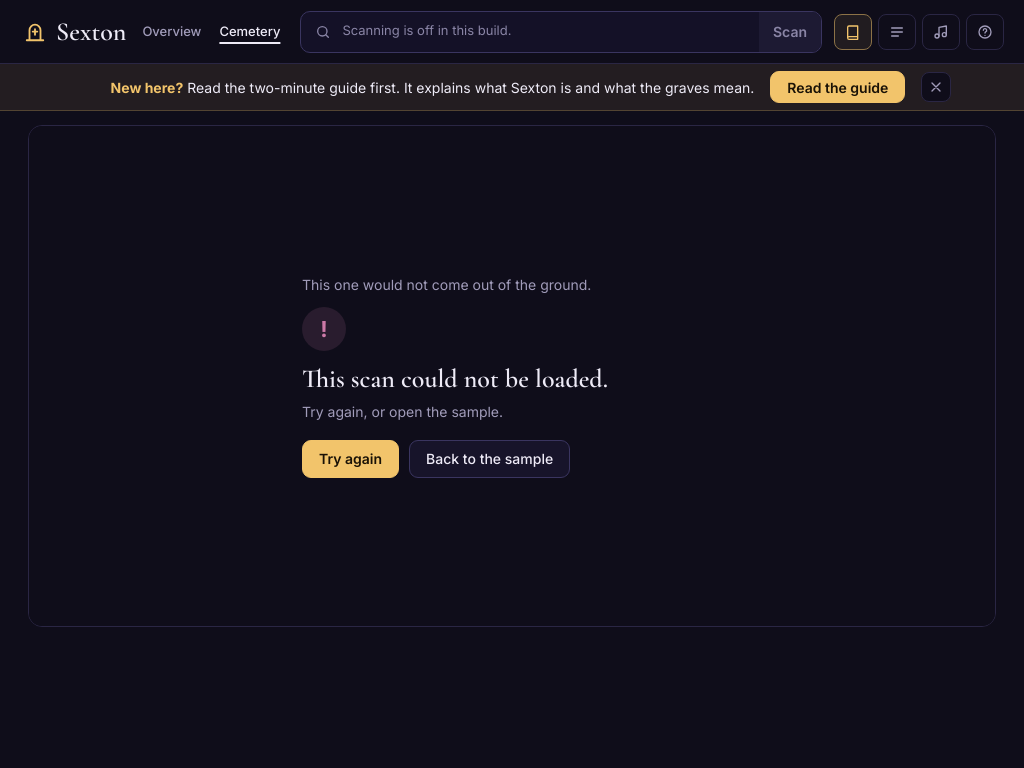
Test: the Tour (13.3 to 13.10) › reads the scanning-off sentence on step 3 with no API base (13.4)
Click the 4th button named "Tour".
click(985, 32)  # box top-left (966, 14), bottom-right (1004, 50)
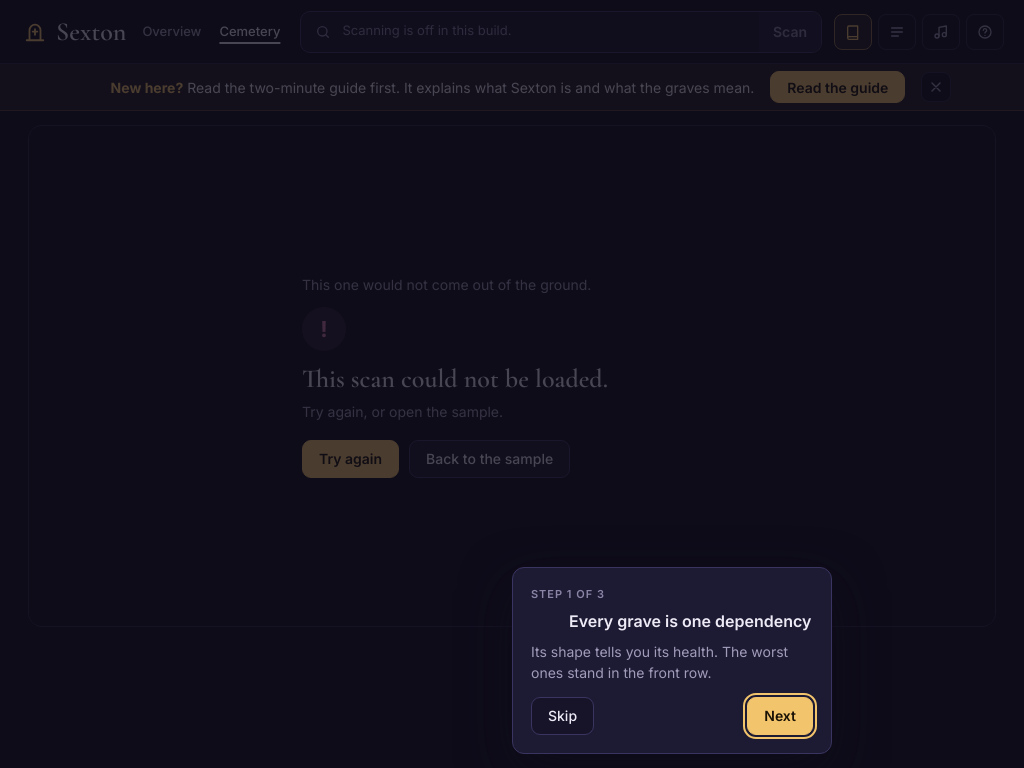
Click the button "Next".
click(780, 716)  # box top-left (747, 696), bottom-right (813, 734)
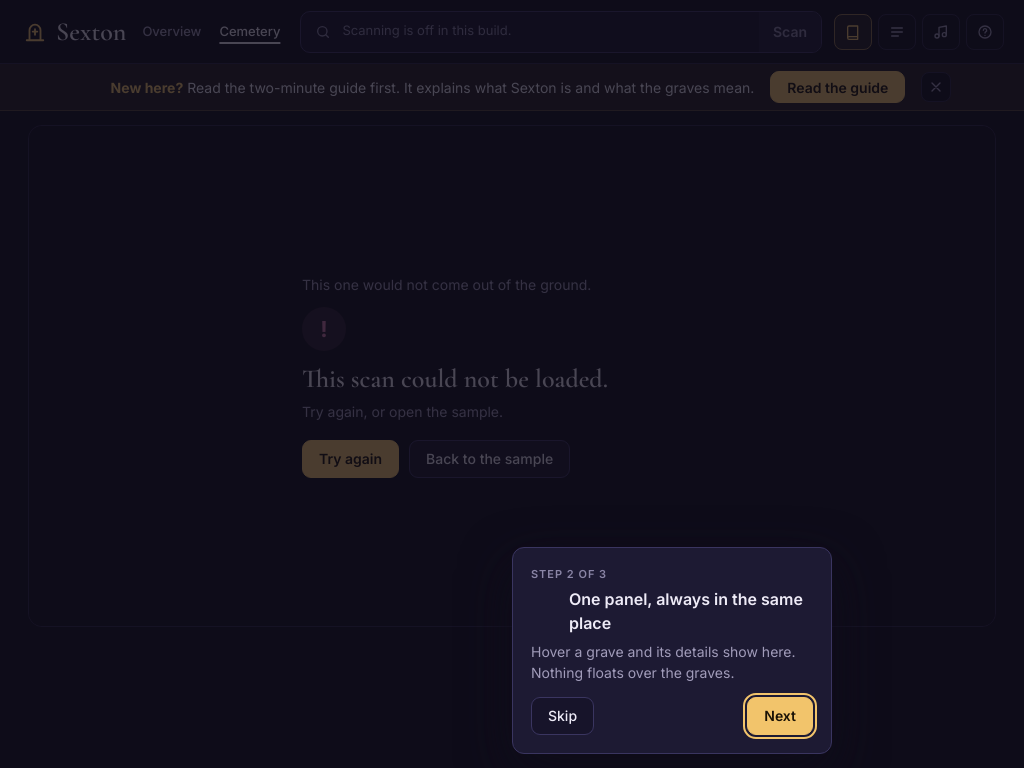
Click the button "Next".
click(780, 716)  # box top-left (747, 696), bottom-right (813, 734)
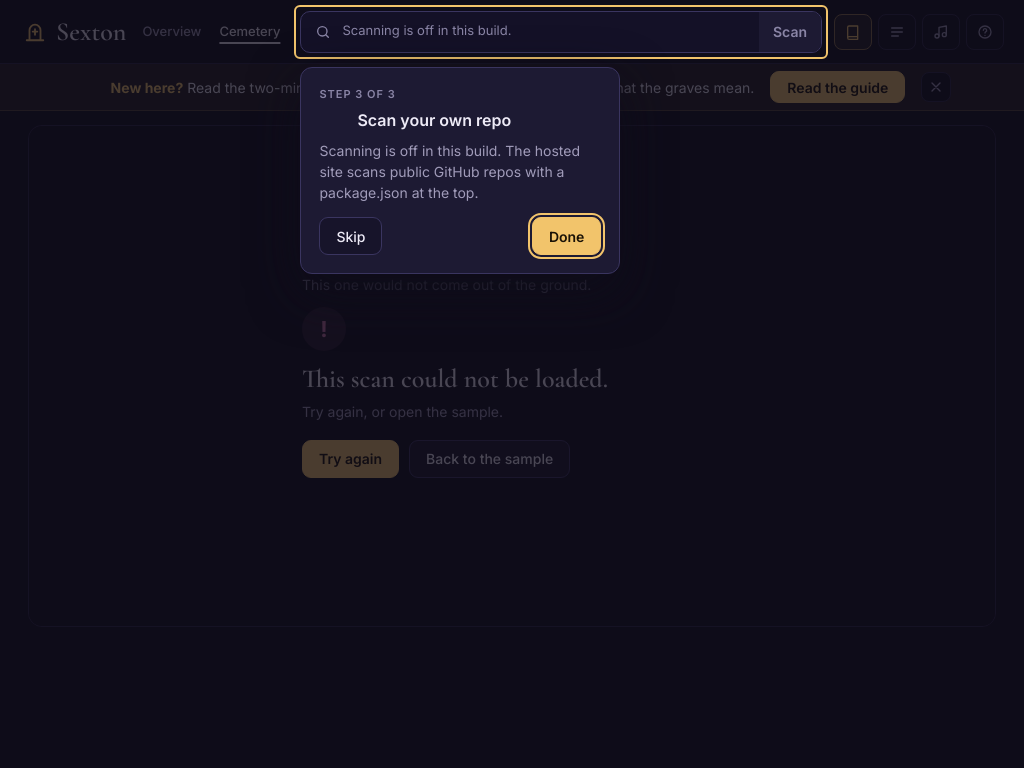
Check: the text with class "tour-text" shows "Scanning is off in this build. The hosted site scans public GitHub repos with a package.json at the top.", box top-left (319, 142), bottom-right (580, 201)
